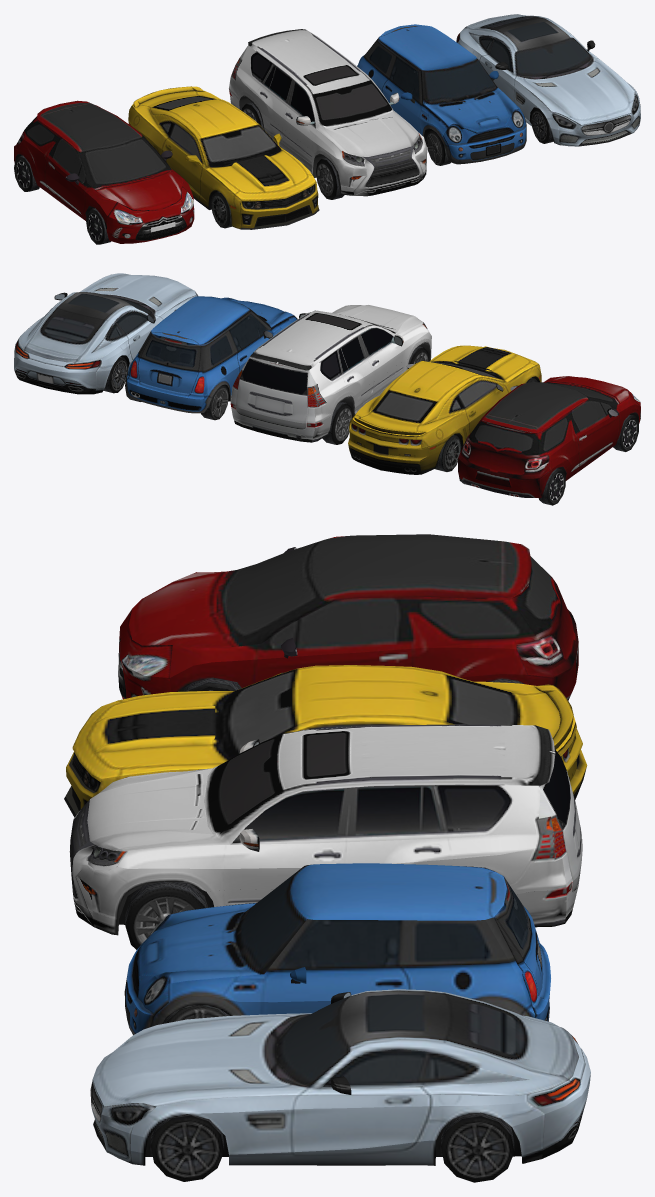
File: Cars_6_13_19_25_27.fbx
The picture shows the model from 3 angles, top to bottom: view 1: azimuth 30°, elevation 25°; view 2: azimuth 150°, elevation 25°; view 3: azimuth 270°, elevation 25°; orthographic projection. The views are drawn at different scales.
Parts seen in each view (by area): view 1: Car_25:Body, Car_6:Body, car_13:Body, car_19:Body, car_27:Body, Car_25:Wheel_FR, Car_6:Wheel_FR, Car_6:Wheel_BR, car_13:Wheel__FR, car_27:Wheel_FR, car_19:Wheel_FR; view 2: Car_25:Body, Car_6:Body, car_13:Body, car_19:Body, car_27:Body, Car_25:Wheel_BR, Car_6:Wheel_BR, car_13:Wheel__BR, Car_6:Wheel_FR, car_19:Wheel_BR, car_27:Wheel_BR; view 3: Car_25:Body, car_19:Body, Car_6:Body, car_27:Body, car_13:Body, car_19:Wheel_BL, car_19:Wheel_FL, Car_25:Wheel_FL.
Boxes of the visible parts, x1,y1,x2,y2 form: Car_25:Body: (229, 29, 427, 196); Car_6:Body: (14, 100, 194, 243); car_13:Body: (128, 86, 319, 229); car_19:Body: (456, 14, 640, 146); car_27:Body: (357, 24, 526, 164); Car_25:Wheel_FR: (316, 158, 344, 199); Car_6:Wheel_FR: (86, 208, 110, 244); Car_6:Wheel_BR: (14, 155, 39, 191); car_13:Wheel__FR: (211, 191, 231, 228); car_27:Wheel_FR: (426, 129, 451, 165); car_19:Wheel_FR: (531, 108, 553, 143); Car_25:Body: (230, 305, 431, 442); Car_6:Body: (458, 376, 640, 497); car_13:Body: (348, 345, 541, 474); car_19:Body: (14, 273, 197, 394); car_27:Body: (125, 296, 297, 413); Car_25:Wheel_BR: (322, 401, 352, 444); Car_6:Wheel_BR: (538, 468, 565, 505); car_13:Wheel__BR: (435, 435, 461, 471); Car_6:Wheel_FR: (613, 414, 638, 451); car_19:Wheel_BR: (103, 356, 127, 393); car_27:Wheel_BR: (200, 384, 228, 420); Car_25:Body: (69, 724, 582, 935); car_19:Body: (90, 989, 590, 1165); Car_6:Body: (118, 534, 578, 700); car_27:Body: (124, 863, 550, 1034); car_13:Body: (64, 665, 587, 817); car_19:Wheel_BL: (441, 1112, 514, 1182); car_19:Wheel_FL: (150, 1114, 224, 1181); Car_25:Wheel_FL: (125, 882, 207, 949).
Size of the model in its own units: 16.72 by 2.6 by 7.04.
1 material, 1 textured.
